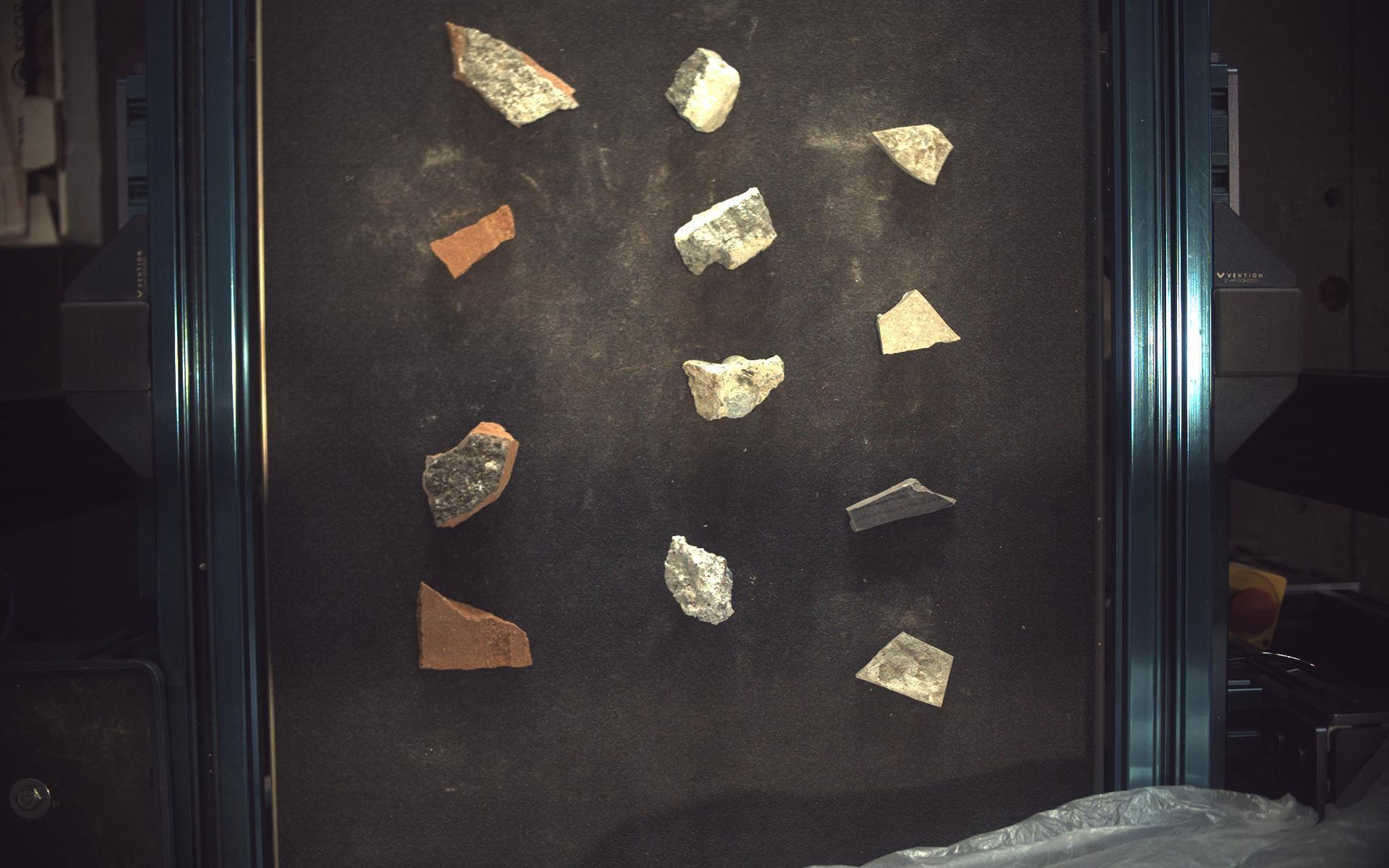brick: (446, 20, 579, 126), (422, 422, 519, 527), (417, 583, 532, 671), (431, 204, 515, 277)
concrete: (676, 187, 778, 274), (684, 355, 786, 420), (666, 46, 742, 132), (666, 536, 734, 625)
tile: (857, 633, 955, 707), (849, 479, 959, 532), (879, 289, 962, 354), (873, 123, 955, 184)
